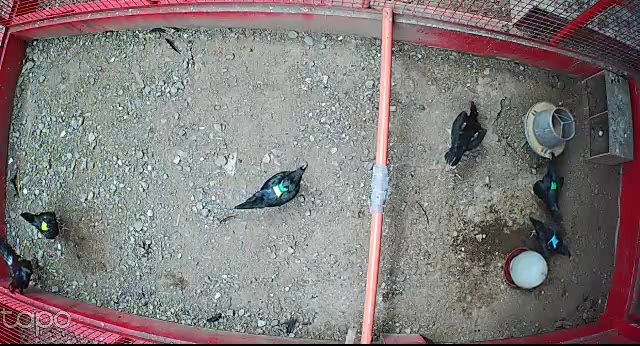Chicken: (230, 159, 310, 213), (524, 148, 566, 223), (442, 101, 487, 165), (524, 213, 575, 262), (19, 208, 69, 239)
Drinker: (502, 245, 549, 291)
Feeder: (524, 102, 578, 160)
Rooster: (0, 240, 50, 294)
Saddle_Color_Blue: (546, 234, 562, 248)
Saddle_Color_Yellow: (40, 221, 50, 232)
Saddle_Color_YellowGreen: (273, 179, 289, 197)
